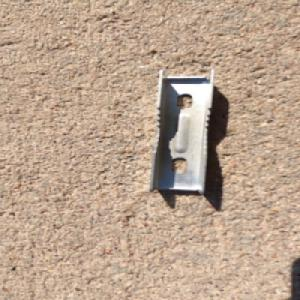ClampPart: (146, 67, 217, 197)
